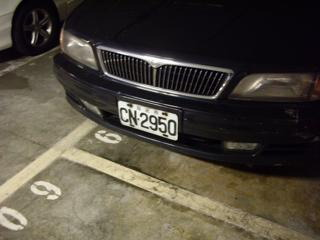plate: (116, 98, 178, 144)
